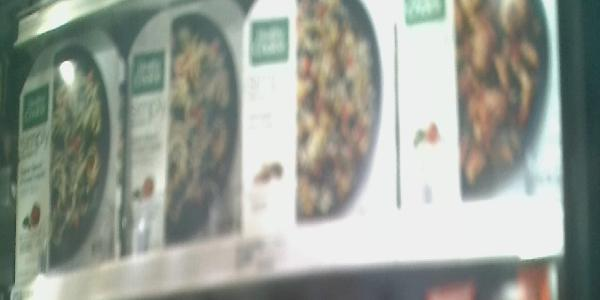pizza1: (395, 1, 565, 208), (246, 1, 395, 228), (123, 4, 244, 254), (11, 33, 123, 283)
